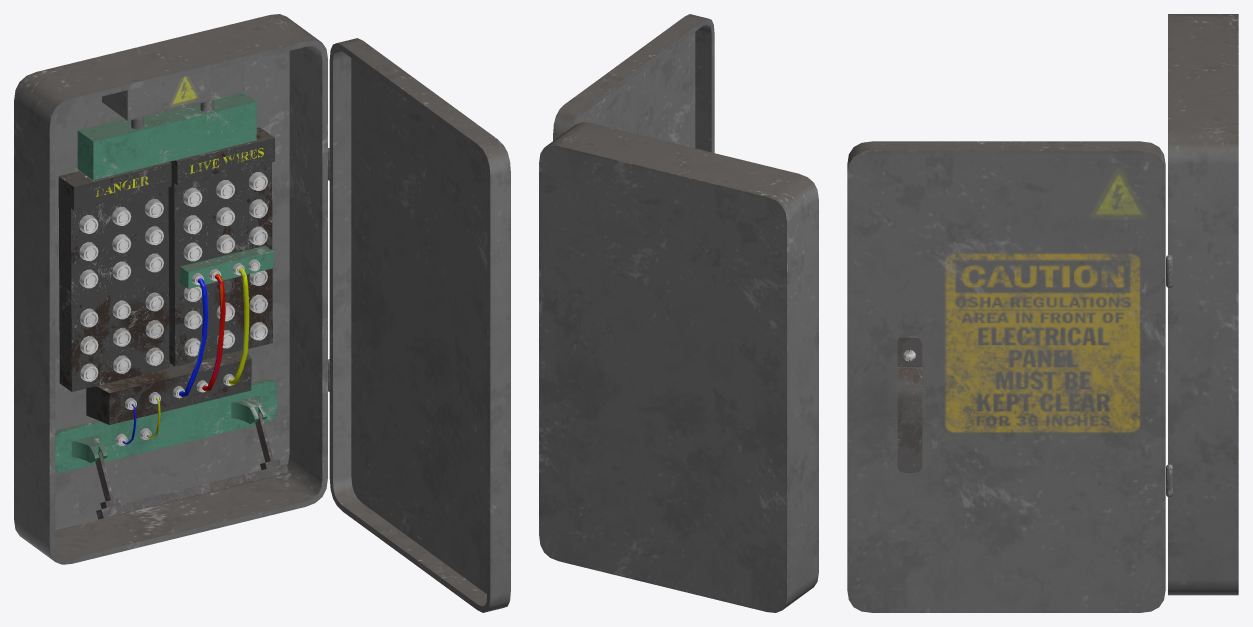
Rendered from Fuse box FBX.FBX.
3 views of the same model, side by side, from view 1: azimuth 30°, elevation 25°; view 2: azimuth 150°, elevation 25°; view 3: azimuth 270°, elevation 25° (orthographic). The views are drawn at different scales.
Visible parts, largest first — view 1: Door, Box, Fuses, electric box, Hand; view 2: Box, Door; view 3: Door, Box.
Boxes of the visible parts, x1,y1,x2,y2 form: Door: [329, 38, 510, 612]; Box: [14, 14, 327, 564]; Fuses: [58, 127, 274, 445]; electric box: [77, 62, 256, 180]; Hand: [55, 379, 288, 519]; Box: [539, 122, 818, 612]; Door: [553, 14, 714, 152]; Door: [847, 141, 1165, 612]; Box: [1168, 14, 1238, 595].
Size of the model in its own units: 0.57 by 0.8 by 0.6147.
1 material, 1 textured.
